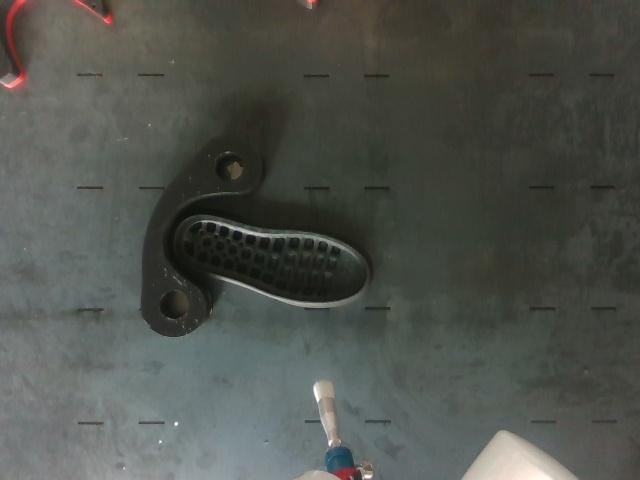shoes: (180, 219, 367, 303)
